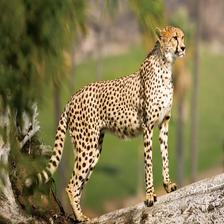Cheetah: (22, 24, 189, 222)
